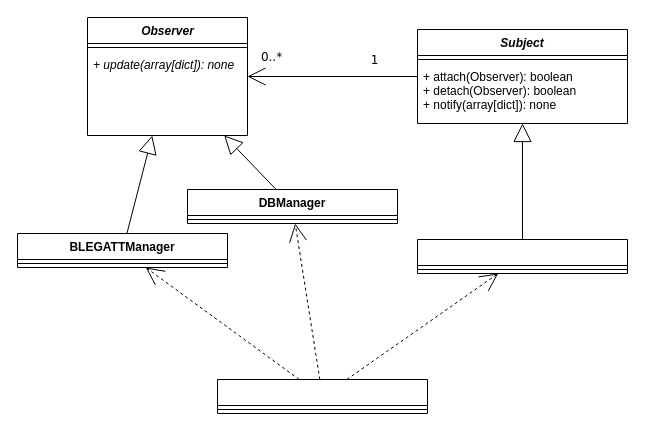
The diagram is 645 pixels wide and 431 high, and some of its shapes have lost their labels. Here are the shapes that lost their labels. From the top down, the centre of each, then its label:
[522,256]: HardwareManager
[322,396]: app.py
